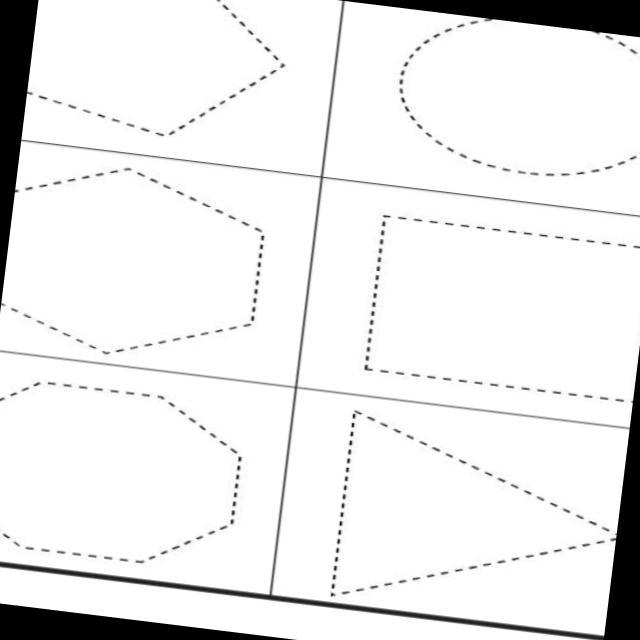circle: (368, 0, 640, 199)
square: (350, 196, 640, 419)
triangle: (317, 381, 639, 640)
